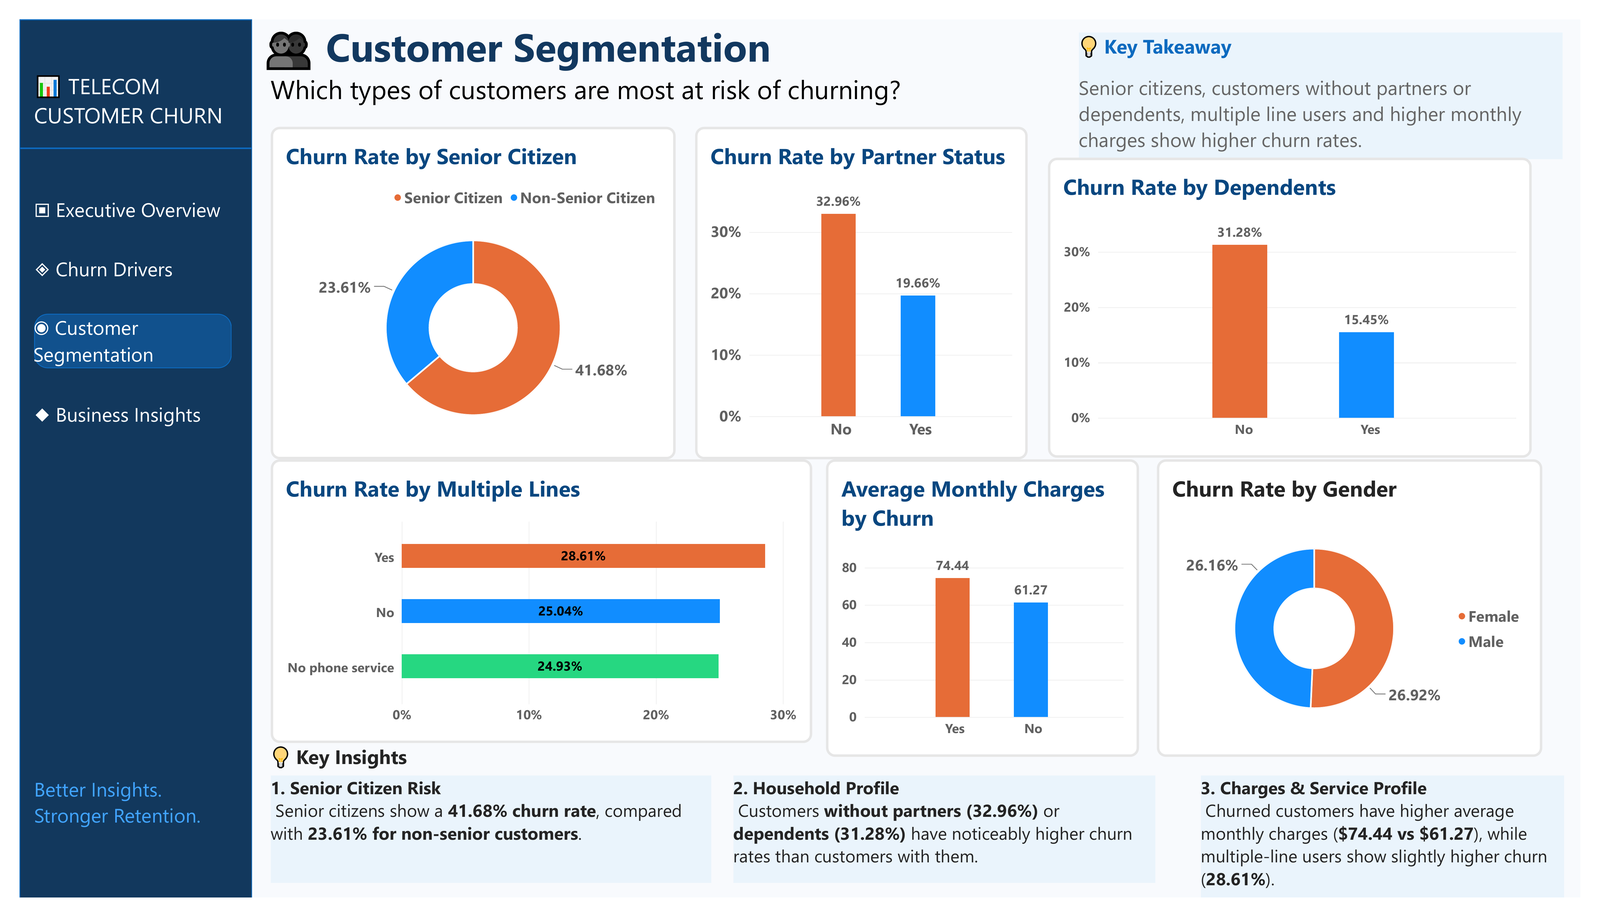

What the dashboard file says about the page in this screenshot:
{"tool":"powerbi","page":{"name":"Page 3","canvas":[1920,1080],"ordinal":2},"visuals":[{"type":"shape","box":[0,0,286.1,1080.6],"z":0,"group":"g1"},{"type":"textbox","box":[18.1,63.3,242.5,86.9],"z":1000,"group":"g1"},{"type":"shape","box":[0,99.5,285.9,117.6],"z":2000,"group":"g1"},{"type":"textbox","box":[18.1,361.9,267.8,67],"z":3000},{"type":"textbox","box":[18.1,468.7,242.5,54.3],"z":4000,"group":"g1"},{"type":"textbox","box":[18.1,930.2,242.5,103.2],"z":5000,"group":"g1"},{"type":"shape","box":[18.1,361.9,242.5,67],"z":6000,"group":"g1"},{"type":"textbox","box":[18.1,217.2,242.5,41.6],"z":7000,"group":"g1"},{"type":"textbox","box":[18.1,289.5,184.6,45.2],"z":8000,"group":"g1"},{"type":"textbox","box":[297.5,0,678.5,64.2],"z":9000},{"type":"textbox","box":[309.5,63.3,780,43.4],"z":10000},{"type":"textbox","box":[1303,16.3,595.4,155.6],"z":11000},{"type":"donutChart","title":"Churn Rate by Senior Citizen","fields":{"Category":["WA_Fn-UseC_-Telco-Customer-Churn.Senior Citizen Label"],"Y":["WA_Fn-UseC_-Telco-Customer-Churn.Churn Rate"]},"box":[309.5,132.1,497.7,409],"z":12000},{"type":"clusteredColumnChart","title":"Churn Rate by Partner Status","fields":{"Category":["WA_Fn-UseC_-Telco-Customer-Churn.Partner"],"Y":["WA_Fn-UseC_-Telco-Customer-Churn.Churn Rate"]},"box":[830.6,132.1,409,409],"z":12001},{"type":"clusteredColumnChart","title":"Churn Rate by Dependents","fields":{"Category":["WA_Fn-UseC_-Telco-Customer-Churn.Dependents"],"Y":["WA_Fn-UseC_-Telco-Customer-Churn.Churn Rate"]},"box":[1265,170.1,595,369],"z":12002},{"type":"clusteredBarChart","title":"Churn Rate by Multiple Lines","fields":{"Category":["WA_Fn-UseC_-Telco-Customer-Churn.MultipleLines"],"Y":["WA_Fn-UseC_-Telco-Customer-Churn.Churn Rate"]},"box":[309.5,541.1,666,349.3],"z":12003},{"type":"clusteredColumnChart","title":"Average Monthly Charges by Churn","fields":{"Category":["WA_Fn-UseC_-Telco-Customer-Churn.Churn"],"Y":["WA_Fn-UseC_-Telco-Customer-Churn.Average Monthly Charges"]},"box":[991.7,541.1,385.5,365.6],"z":12004},{"type":"donutChart","title":"Churn Rate by Gender","fields":{"Category":["WA_Fn-UseC_-Telco-Customer-Churn.gender"],"Y":["WA_Fn-UseC_-Telco-Customer-Churn.Churn Rate"]},"box":[1398.9,541.1,474.1,365.6],"z":12005},{"type":"textbox","box":[309.5,890.4,191.8,39.8],"z":18000},{"type":"textbox","box":[309.5,930.2,541.1,132.1],"z":19000},{"type":"textbox","box":[877.7,930.2,519.4,132.1],"z":20000},{"type":"textbox","box":[1453.2,930.2,447,150.2],"z":21000},{"type":"group","id":"g1","title":"Group 1","box":[0,0,286.1,1080.6],"z":21001},{"type":"textbox","box":[17.1,361.7,267.6,66.4],"z":21002}]}

Visuals, with their boxes in screenshot pixels (x1, y1, x2, y2):
shape: 12, 42, 248, 916
textbox: 27, 94, 227, 165
shape: 12, 123, 247, 220
textbox: 27, 339, 247, 394
textbox: 27, 427, 227, 471
textbox: 27, 806, 227, 891
shape: 27, 339, 227, 394
textbox: 27, 220, 227, 254
textbox: 27, 280, 179, 317
textbox: 257, 42, 815, 94
textbox: 267, 94, 908, 129
textbox: 1083, 55, 1573, 183
"Churn Rate by Senior Citizen" donutChart: 267, 150, 676, 486
"Churn Rate by Partner Status" clusteredColumnChart: 695, 150, 1031, 486
"Churn Rate by Dependents" clusteredColumnChart: 1052, 181, 1541, 485
"Churn Rate by Multiple Lines" clusteredBarChart: 267, 486, 814, 773
"Average Monthly Charges by Churn" clusteredColumnChart: 827, 486, 1144, 787
"Churn Rate by Gender" donutChart: 1162, 486, 1552, 787
textbox: 267, 773, 424, 806
textbox: 267, 806, 712, 915
textbox: 734, 806, 1161, 915
textbox: 1207, 806, 1574, 916
"Group 1" group: 12, 42, 248, 916
textbox: 27, 339, 246, 393
